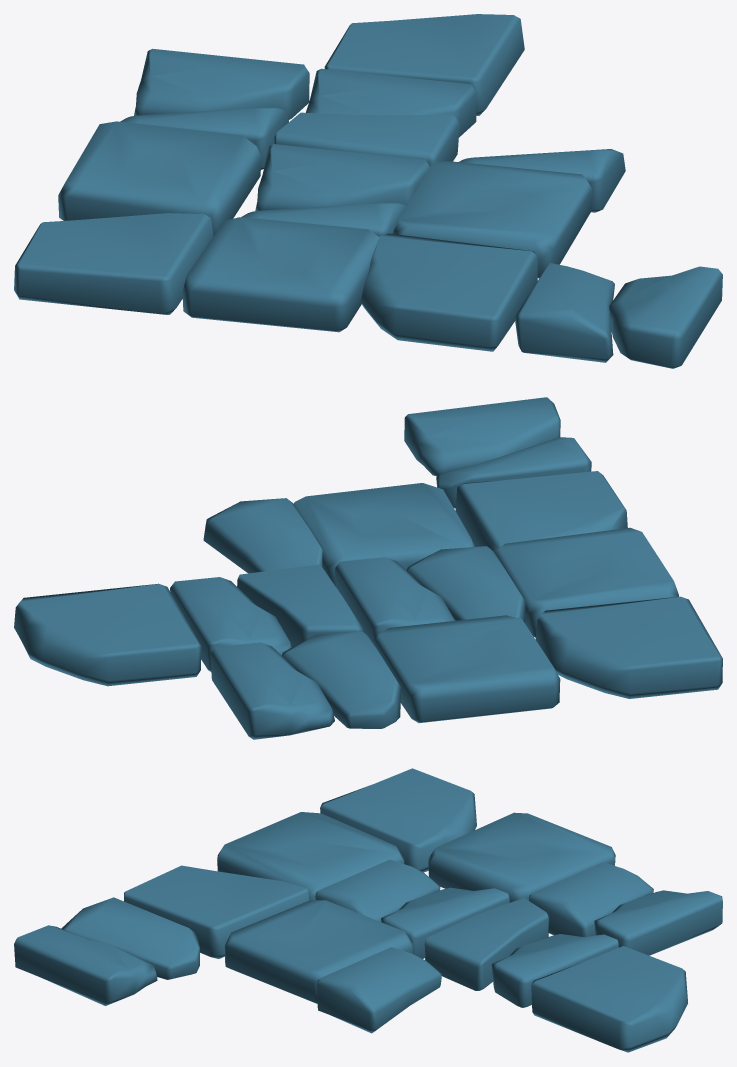
Rendered from Pavement_Grp_05_Lod0.fbx.
3 views of the same model, one above another, from view 1: azimuth 30°, elevation 25°; view 2: azimuth 150°, elevation 25°; view 3: azimuth 270°, elevation 25° (orthographic). The views are drawn at different scales.
Visible parts, largest first — view 1: Pavement_Grp_05_Lod0; view 2: Pavement_Grp_05_Lod0; view 3: Pavement_Grp_05_Lod0.
Part boxes in pixels (x1,y1,x2,y2): Pavement_Grp_05_Lod0: (14, 14, 722, 368); Pavement_Grp_05_Lod0: (14, 397, 722, 739); Pavement_Grp_05_Lod0: (14, 768, 722, 1052).
Bounding box in the file's own units: 222 × 14.28 × 259.
